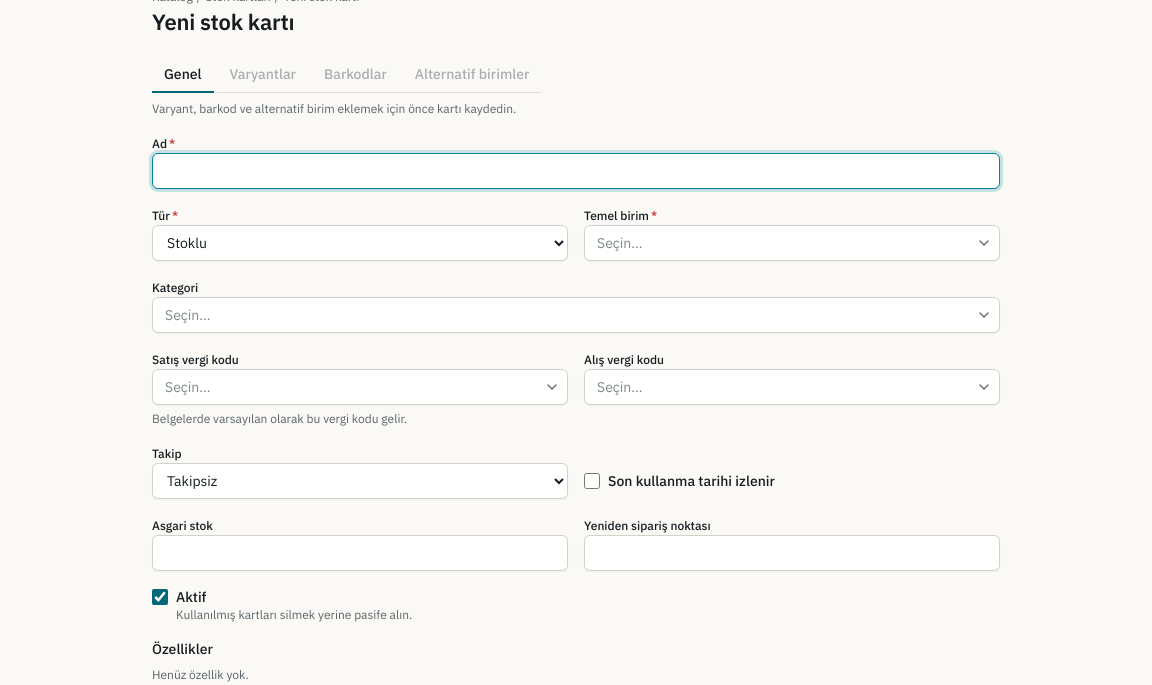
Test case: ItemFormPage › clears stock-only fields for services and validates attributes
Select "Hizmet" in the dropdown labelled "Tür*": (360, 243) [152, 225, 568, 261]
(page scrolled)
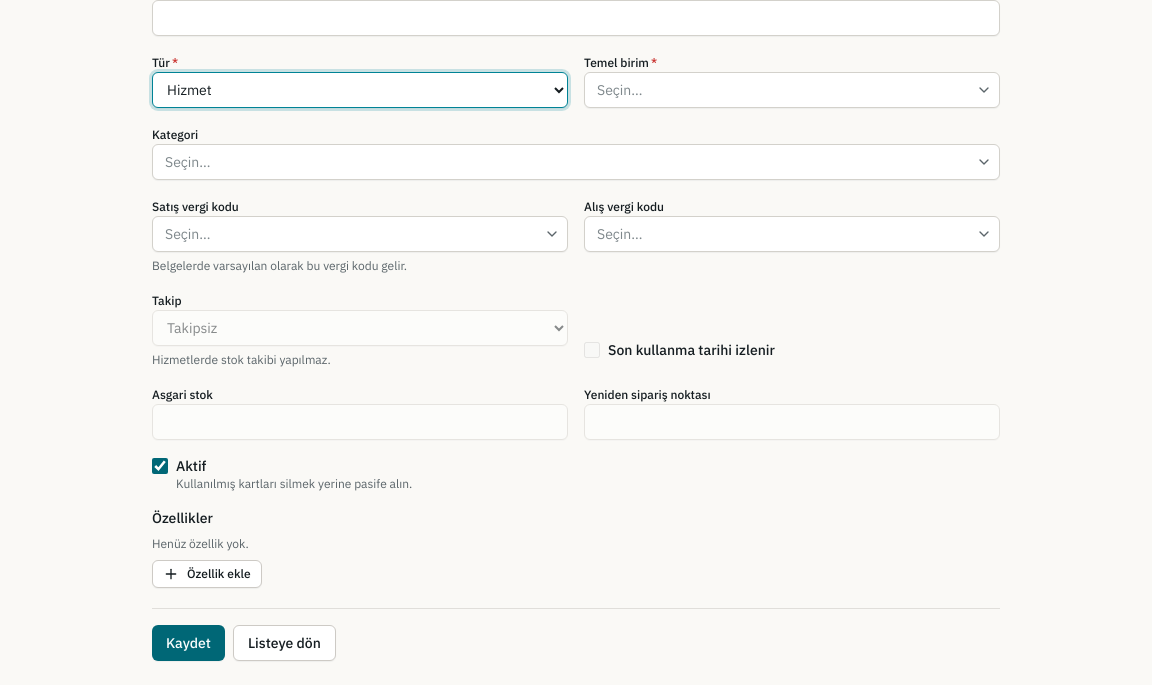
Expected: the dropdown labelled "Takip" is disabled, [152, 310, 568, 346]
Expected: the text "Hizmetlerde stok takibi yapılmaz." is shown, [152, 352, 331, 367]
Click the button "Özellik ekle": (207, 574) [152, 560, 262, 588]
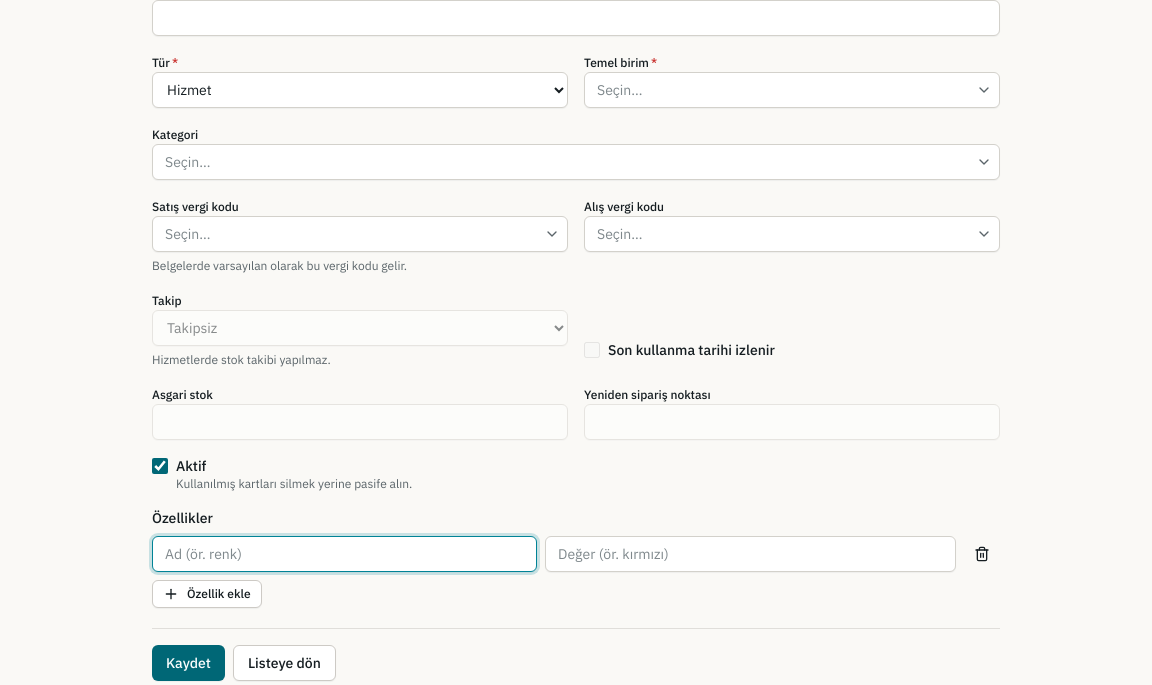
Click the button "Özellik ekle": (207, 594) [152, 580, 262, 608]
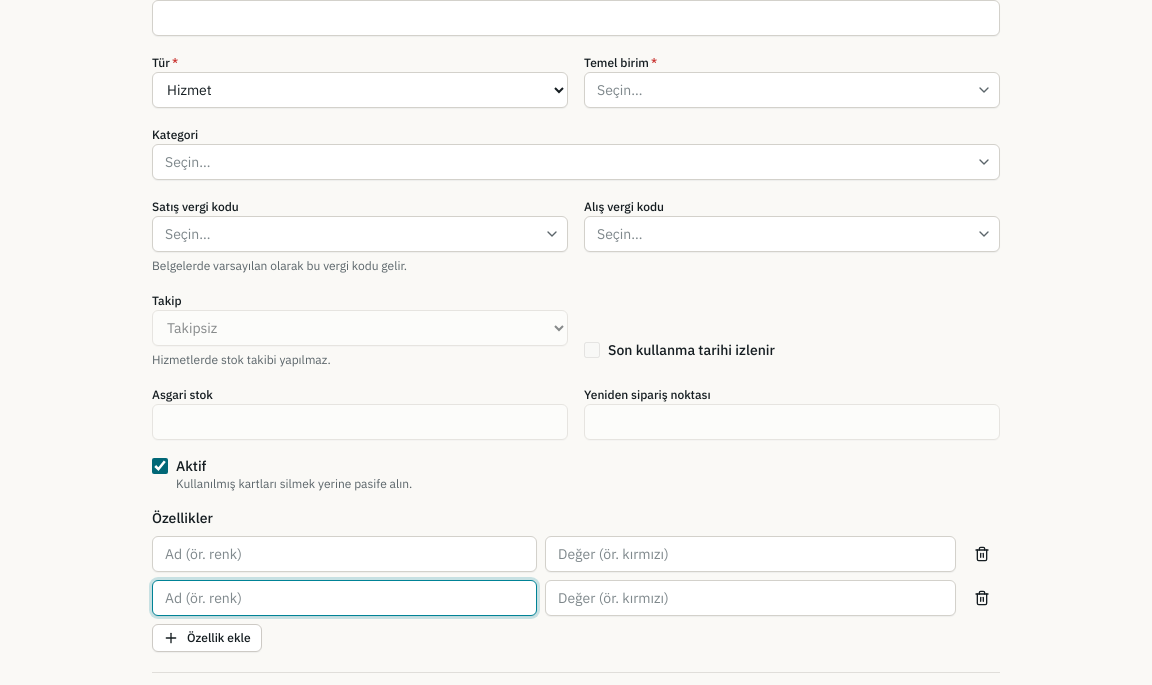
In the field named "1. özellik adı": (344, 554) [152, 536, 537, 572], type "Renk"
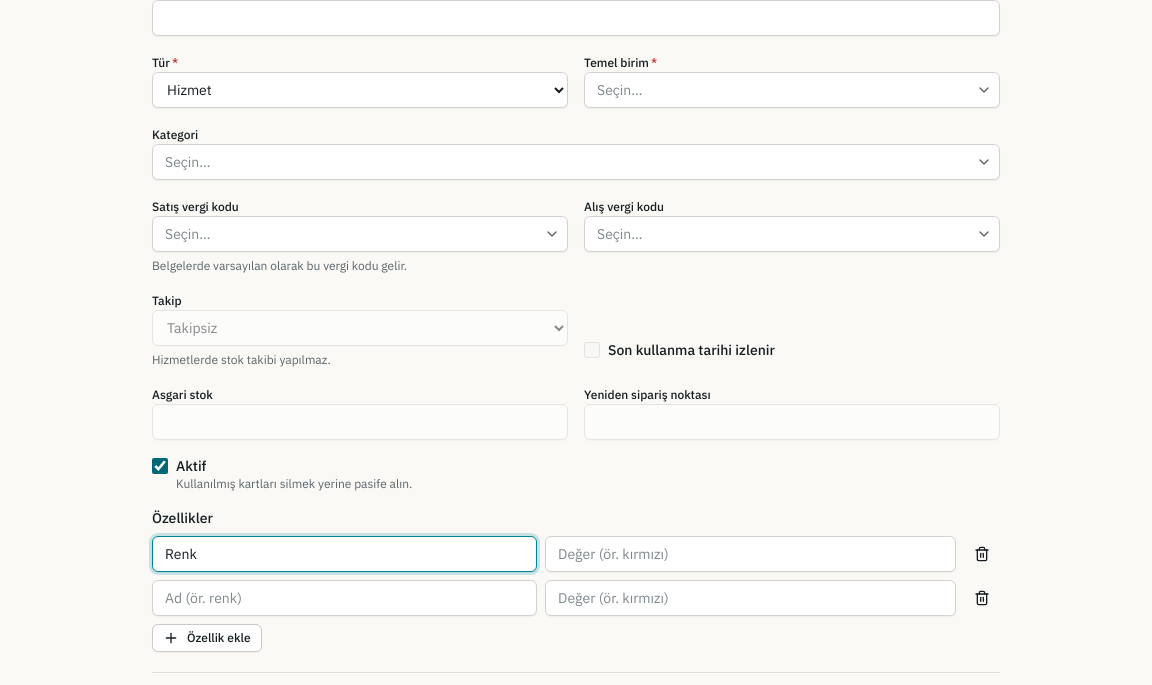
In the field named "2. özellik adı": (344, 598) [152, 580, 537, 616], type "renk"
(page scrolled)
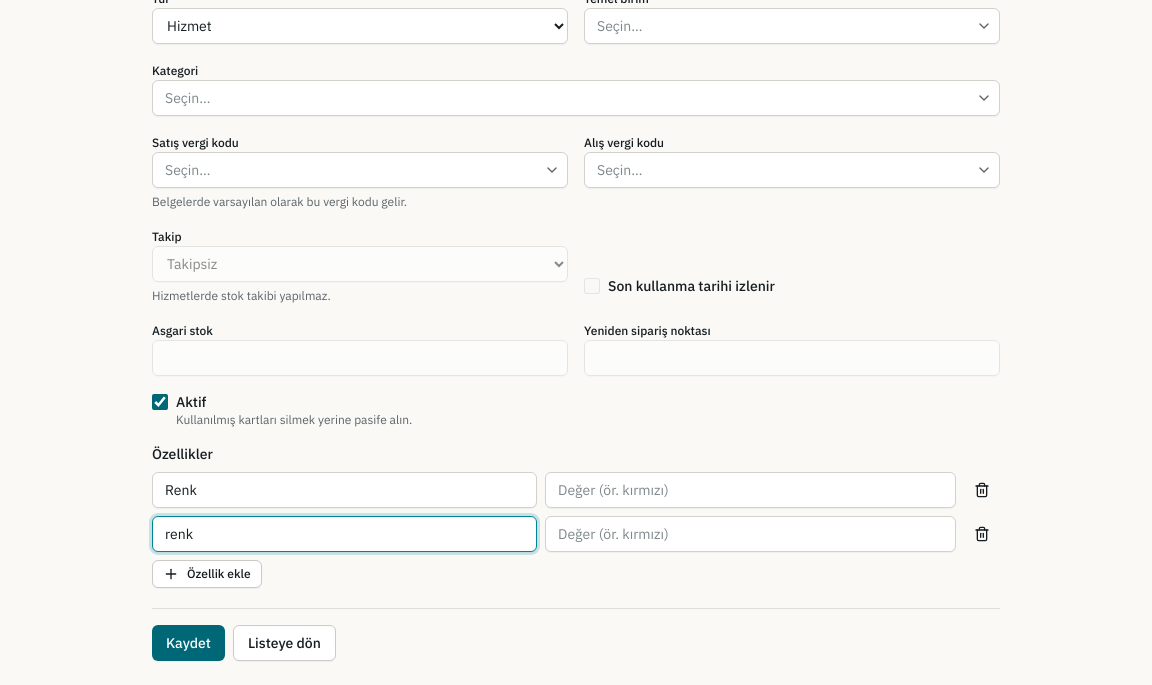
Click the button "Kaydet": (188, 643) [152, 625, 225, 661]
(page scrolled)
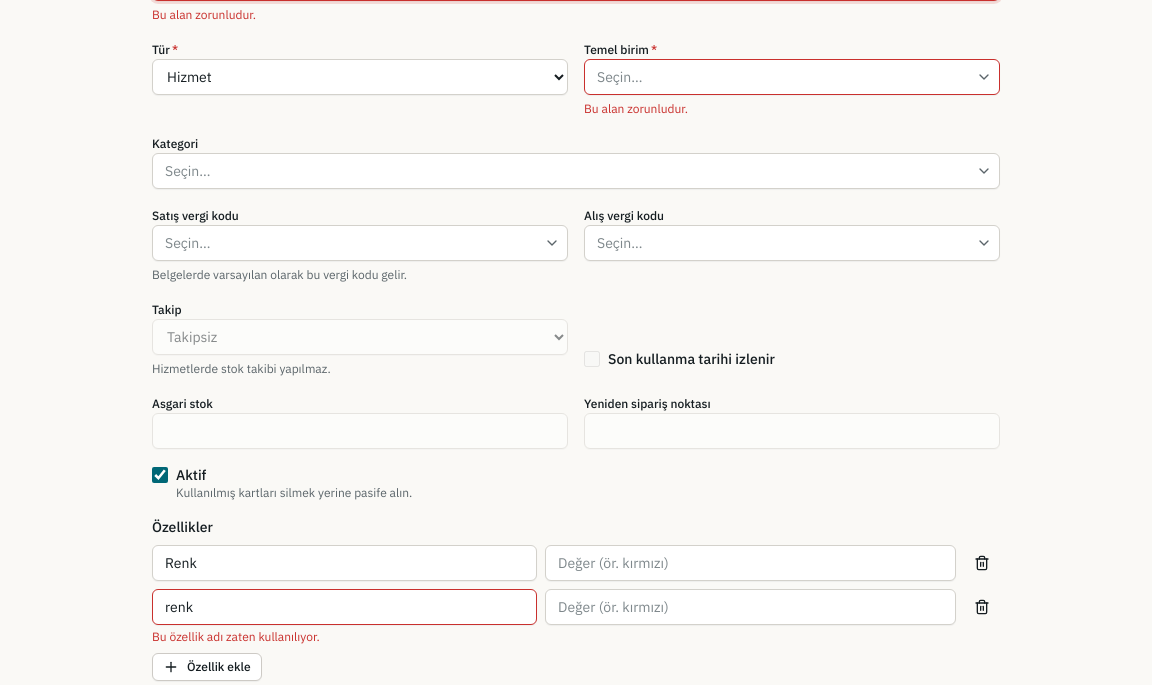
Expected: the text "Bu özellik adı zaten kullanılıyor." is shown, [152, 629, 320, 644]
Expected: the 1st text "Bu alan zorunludur." is shown, [152, 7, 256, 22]
